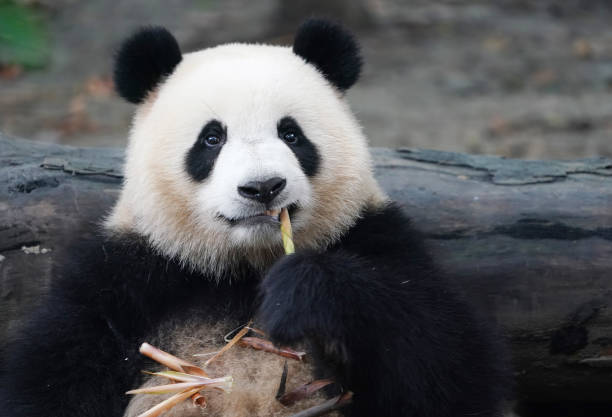panda: (87, 5, 402, 312)
